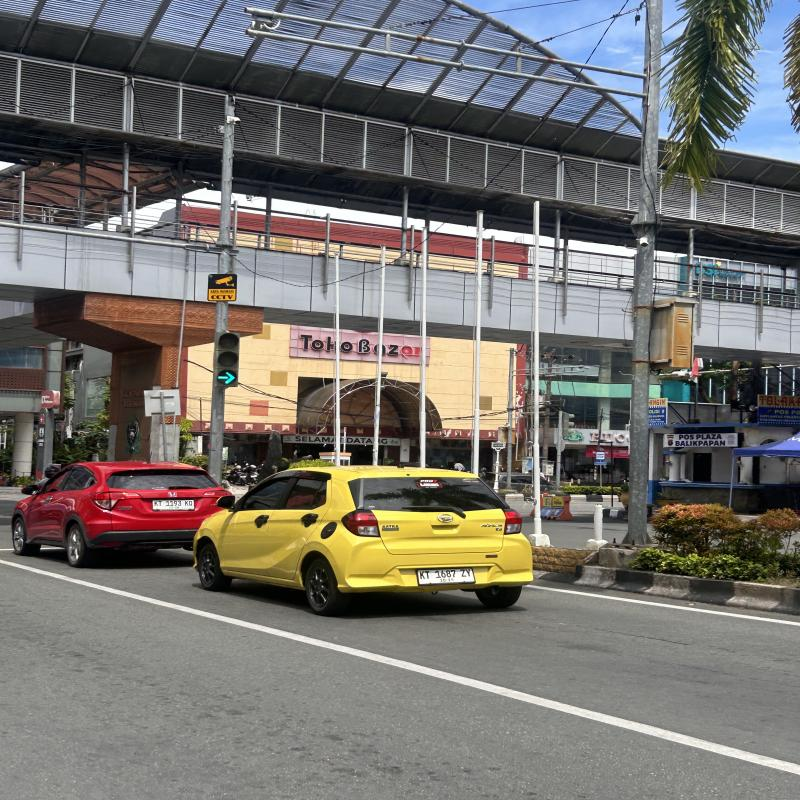license plate on a car: (417, 568, 475, 584), (153, 500, 194, 510)
